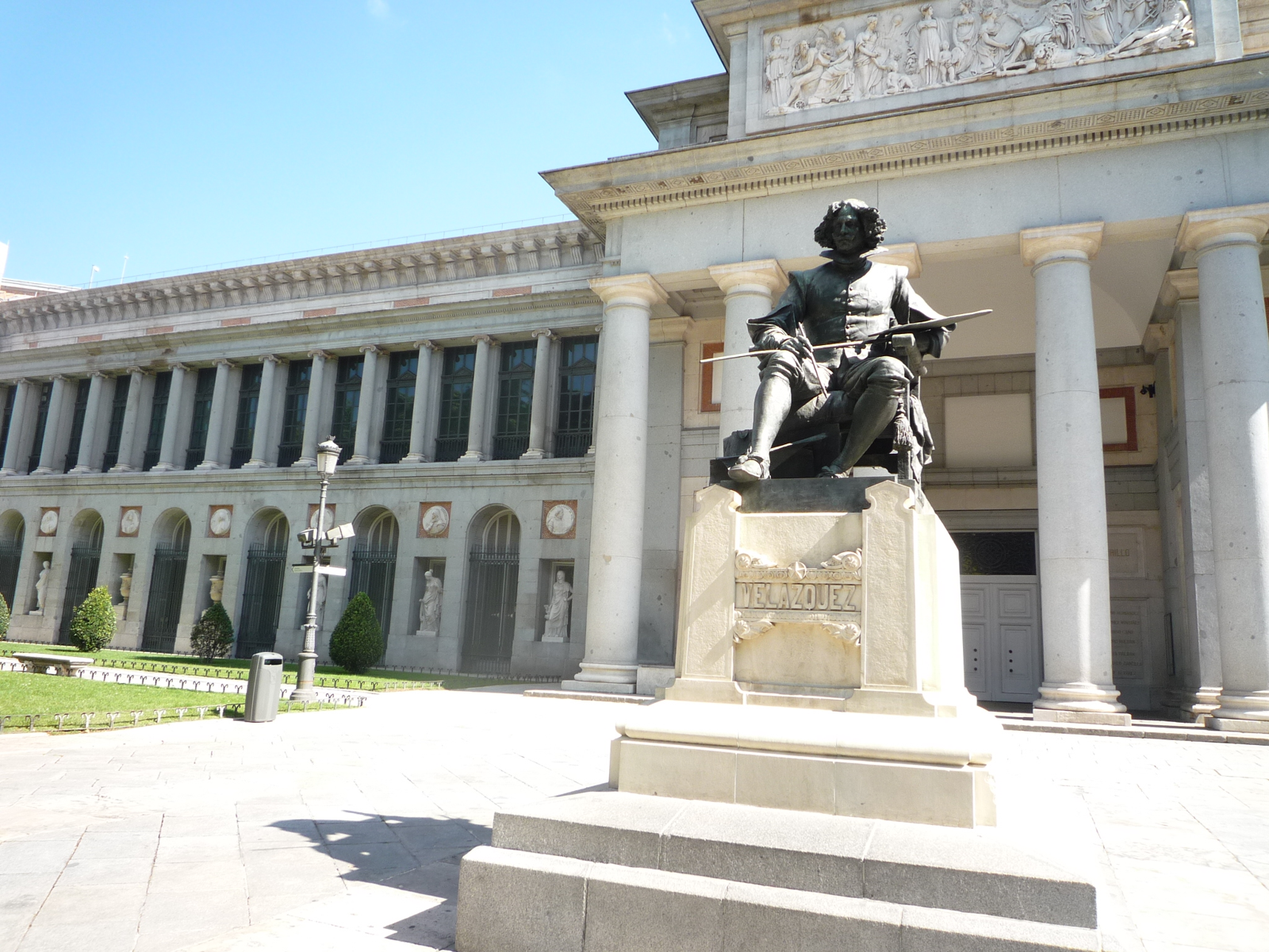fachada: (0, 0, 1269, 743)
poste: (291, 428, 367, 701)
